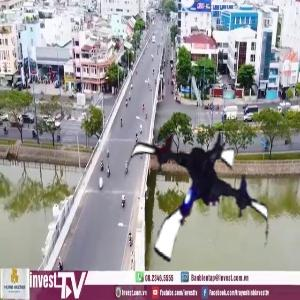drone: (116, 118, 280, 282)
